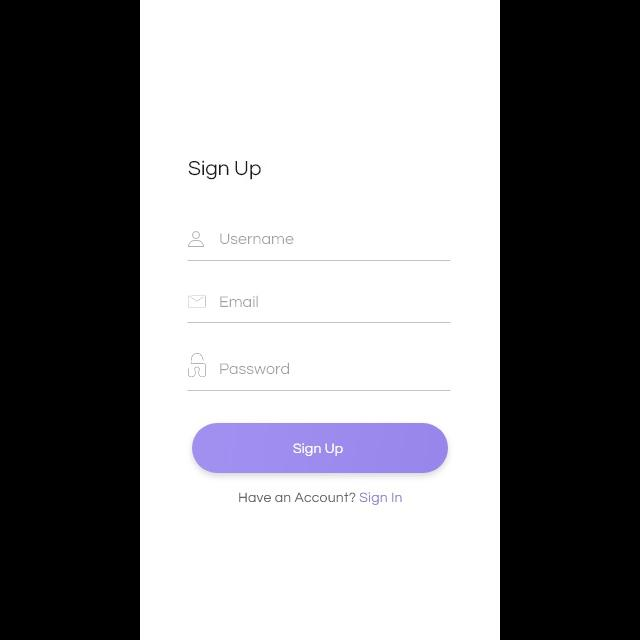icon: (188, 354, 208, 378), (188, 232, 205, 248), (189, 295, 207, 309)
input: (187, 352, 451, 392), (187, 230, 451, 262), (188, 296, 452, 324)
text: (239, 490, 403, 506), (190, 160, 262, 180), (220, 233, 294, 245), (222, 363, 290, 375), (220, 296, 260, 308)
textbutton: (192, 422, 448, 473)
